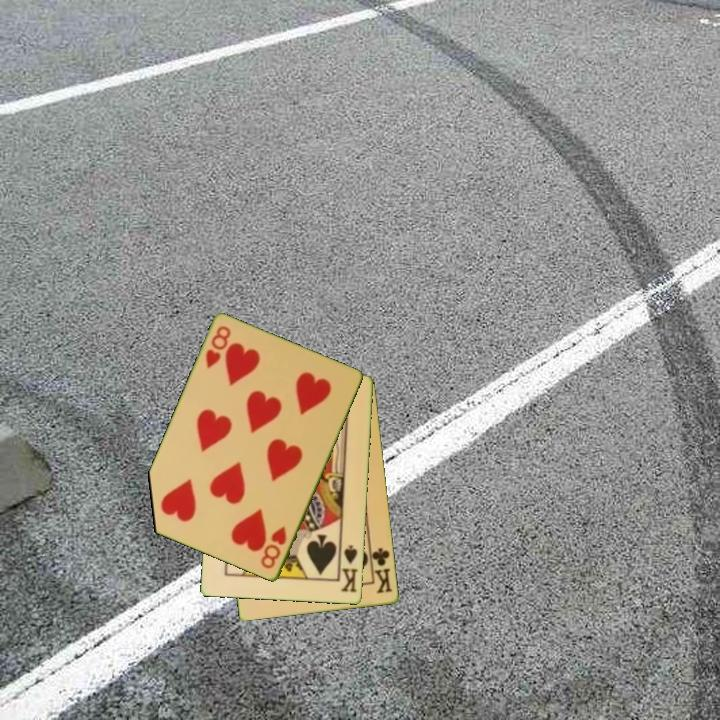8h: (257, 522, 290, 572), (202, 322, 234, 372)
Kc: (367, 544, 395, 597)
Ks: (336, 541, 361, 595)
